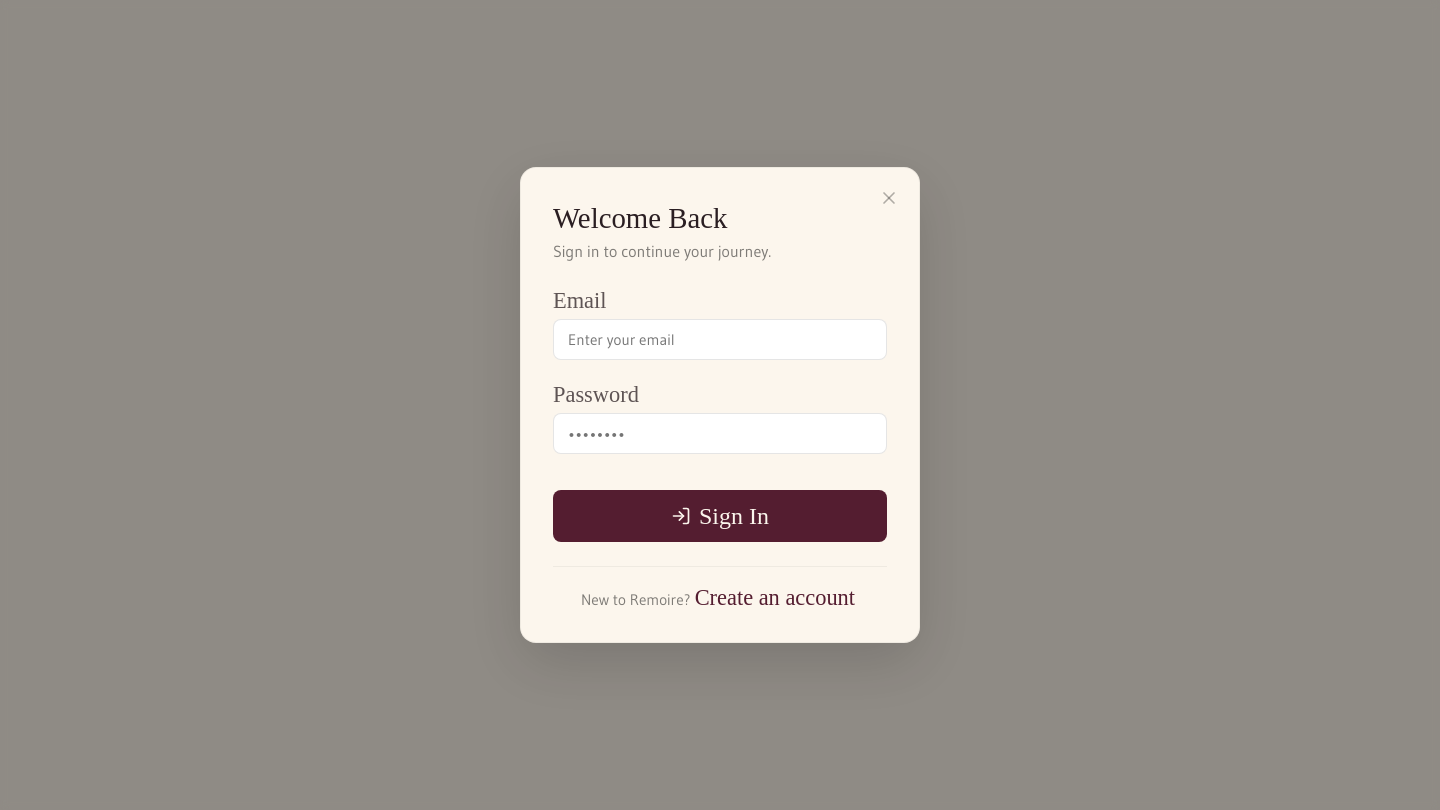
Test case: Login Component › displays errors from server
This screenshot has width=1440, height=810.
Type "wrong" into the field labelled "Email" at (720, 340), box [553,319,887,360]
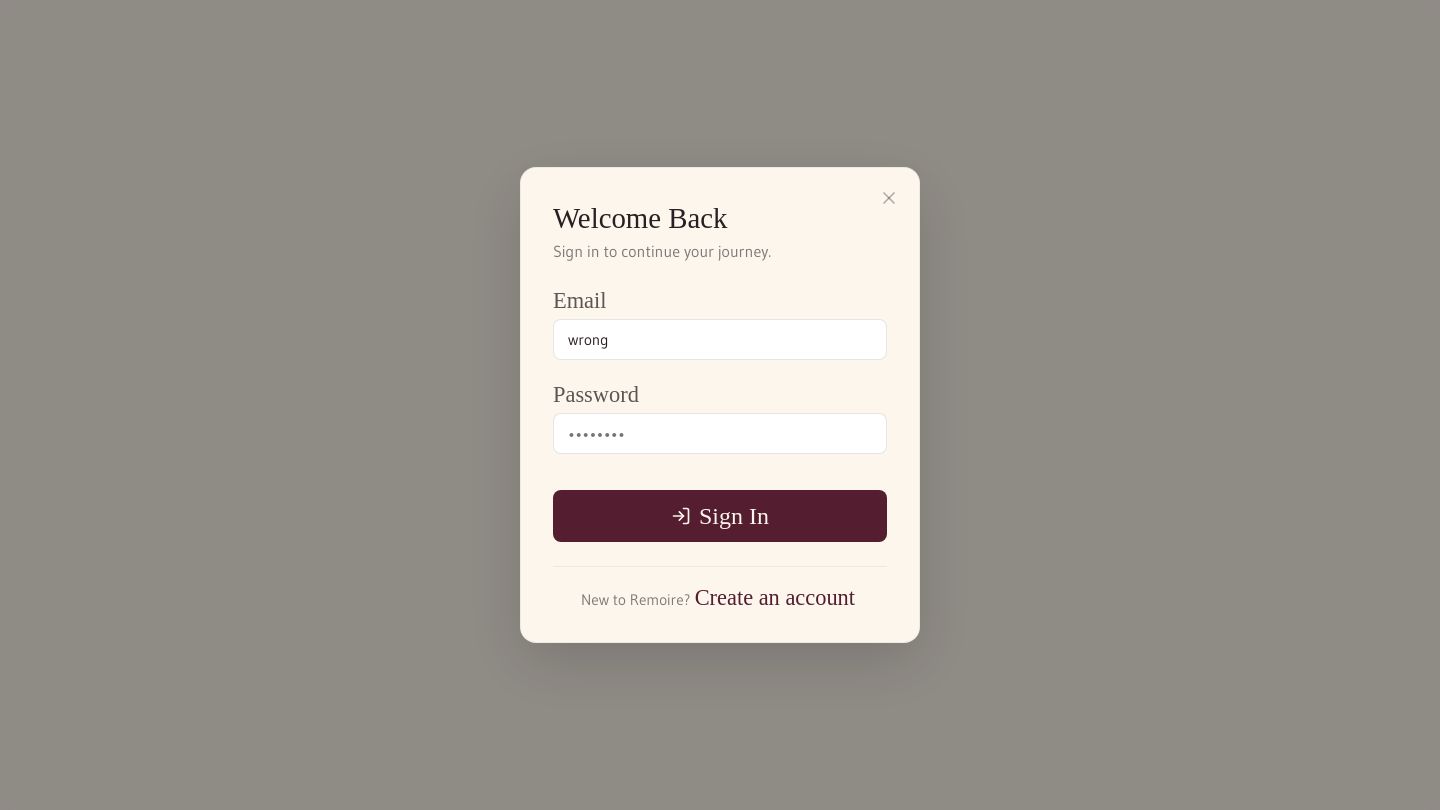
Click the button "Sign In" at (720, 516), box [553,490,887,542]
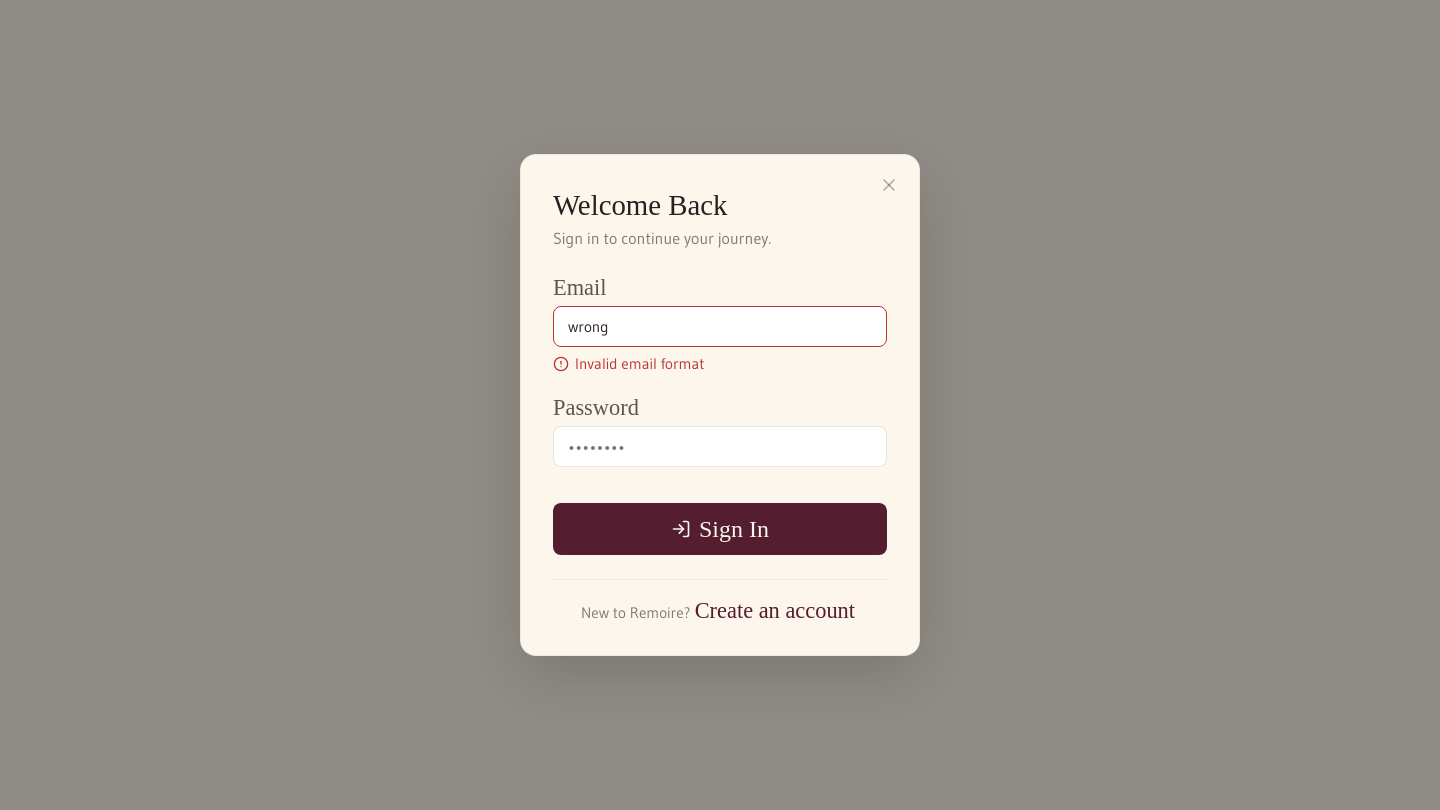
expect the text "Invalid email format" is shown: met, box [553,354,705,373]
